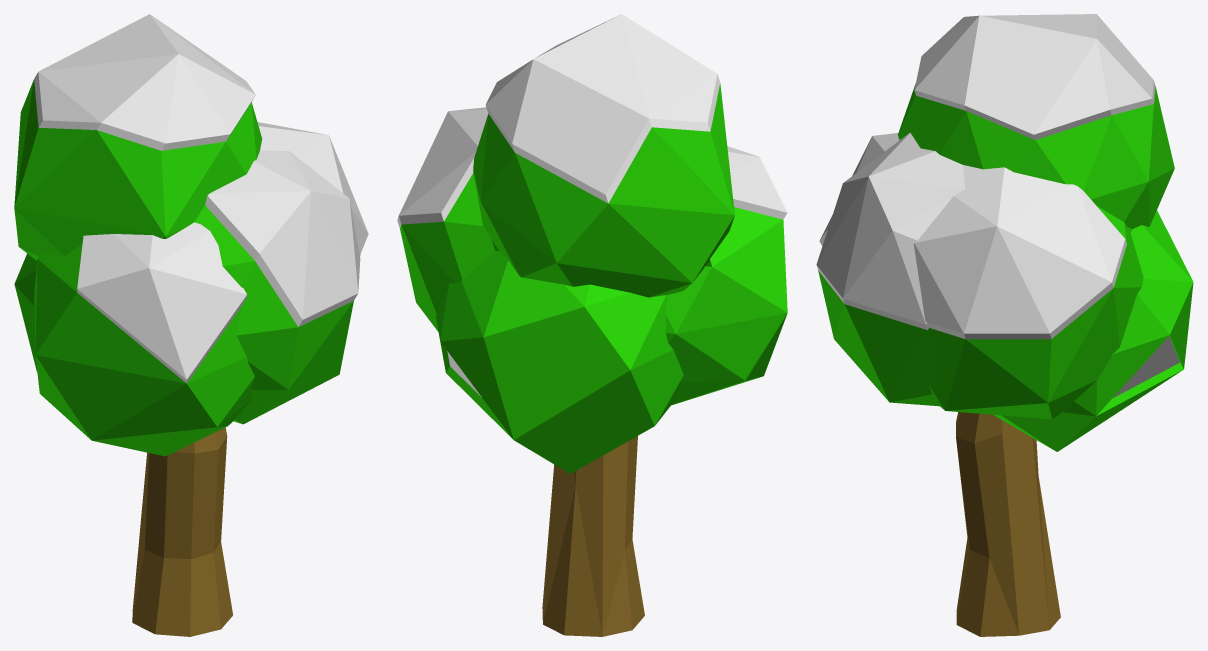
Rendered from Tree 1 Snow.fbx.
3 views of the same model, side by side, from view 1: azimuth 30°, elevation 25°; view 2: azimuth 150°, elevation 25°; view 3: azimuth 270°, elevation 25° (orthographic). The views are drawn at different scales.
Visible parts, largest first — view 1: Tree 1 Snow; view 2: Tree 1 Snow; view 3: Tree 1 Snow.
Part boxes in pixels (box(x1,y1,x2,y2)): Tree 1 Snow: box(14, 14, 368, 636); Tree 1 Snow: box(397, 14, 787, 636); Tree 1 Snow: box(816, 14, 1193, 636).
Size of the model in its own units: 350 by 576 by 331.
